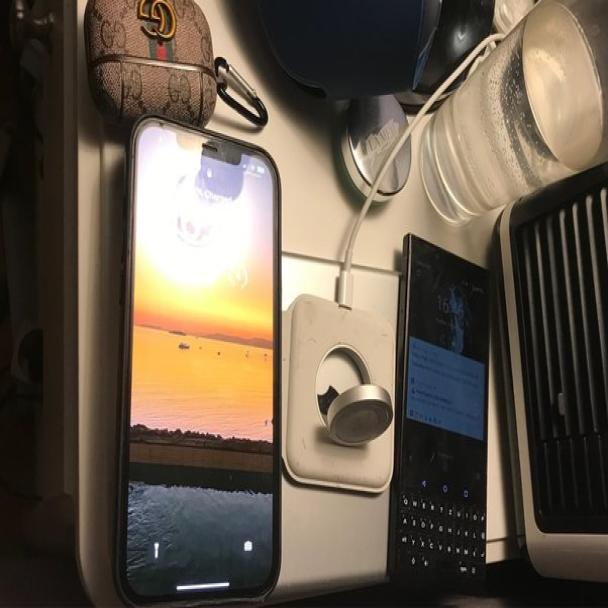Handphone: (112, 116, 283, 606), (391, 237, 500, 586)
